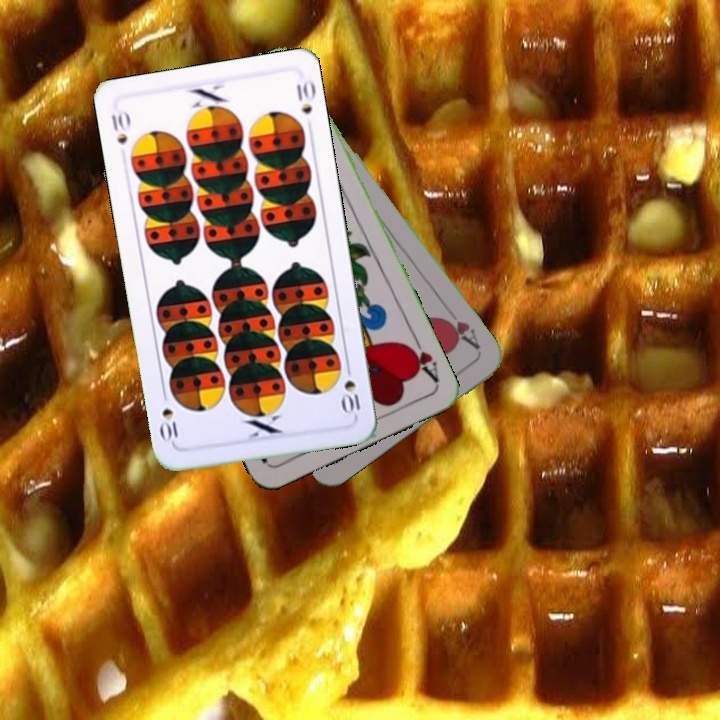HA: (401, 330, 442, 386), (437, 312, 483, 353)
S10: (334, 359, 364, 418), (107, 106, 133, 147)
